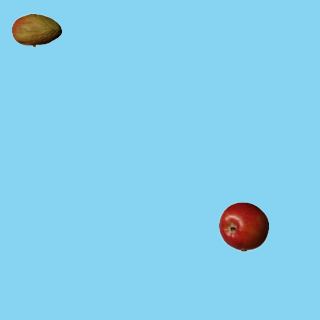Apple Braeburn: (218, 201, 268, 251)
Papaya: (11, 5, 61, 55)
